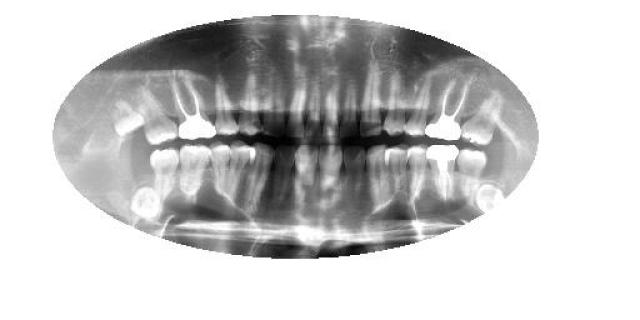Implant: (170, 79, 218, 141), (424, 77, 468, 142), (428, 142, 462, 202)
Restorations: (461, 95, 501, 146), (109, 99, 146, 139)
